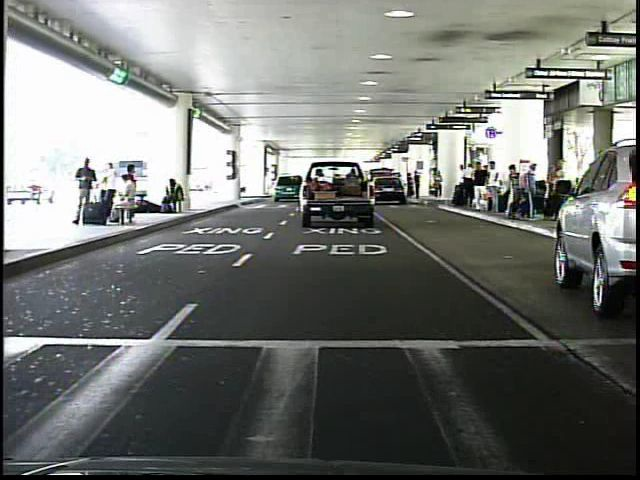person: (79, 155, 104, 229), (468, 158, 490, 218), (486, 159, 503, 216), (453, 160, 472, 210), (432, 166, 448, 206), (405, 169, 416, 201), (414, 170, 424, 203)
